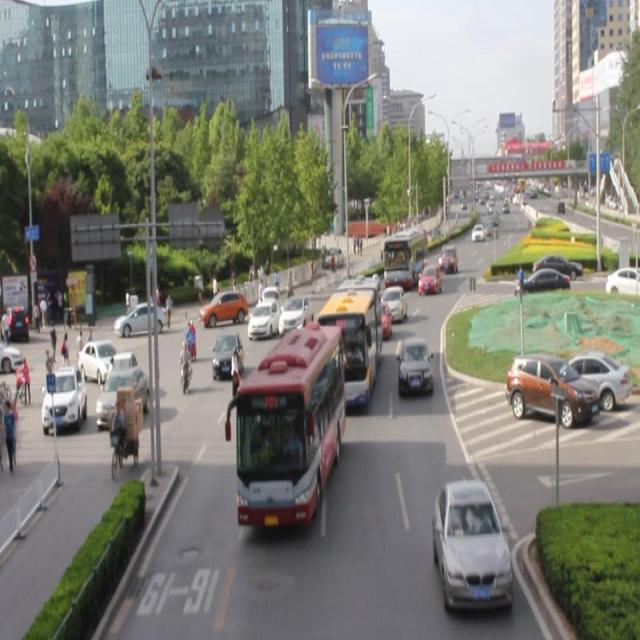car: (433, 481, 508, 605), (253, 363, 297, 423), (398, 338, 433, 396), (331, 293, 372, 335), (200, 292, 247, 327), (212, 331, 244, 378), (279, 294, 312, 338), (248, 298, 279, 340), (368, 300, 392, 341), (378, 287, 404, 323), (418, 264, 442, 298), (437, 244, 457, 276)
van: (236, 323, 339, 528), (319, 277, 379, 408), (384, 229, 425, 291)
